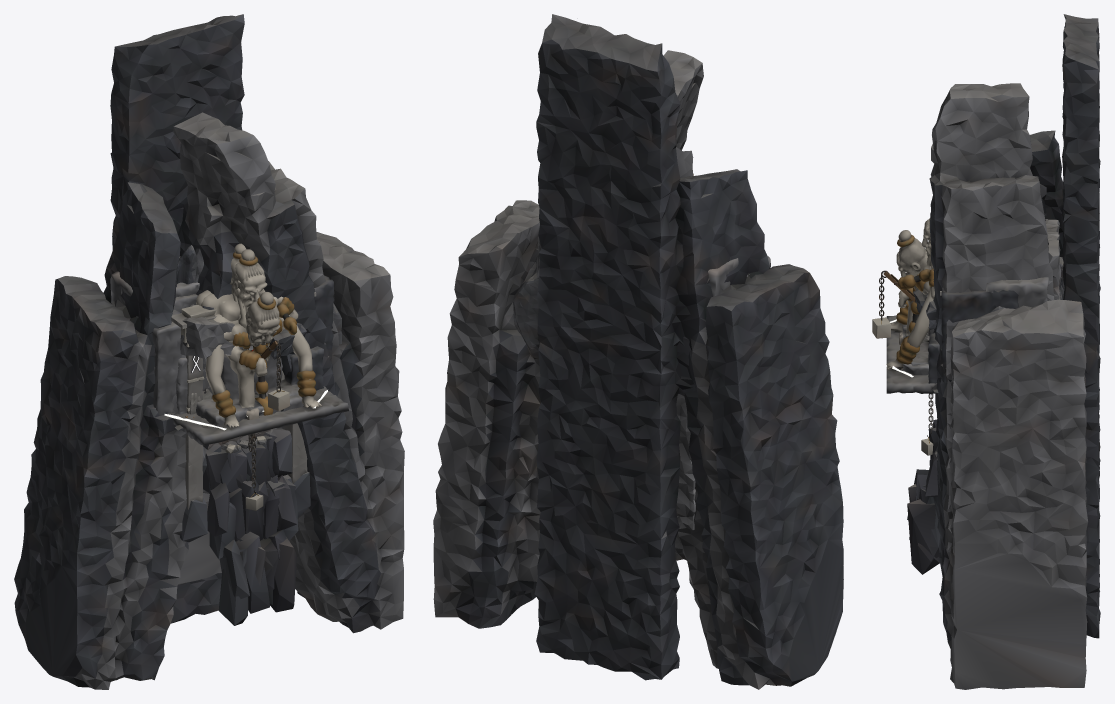
The model's file is smith_heart_hammer_kit.glb.
3 views of the same model, side by side, from view 1: azimuth 30°, elevation 25°; view 2: azimuth 150°, elevation 25°; view 3: azimuth 270°, elevation 25° (orthographic). The views are drawn at different scales.
Parts seen in each view (by area): view 1: Kit_CleftGate, Kit_ColossusWaking, Kit_QuarryLipA, Kit_QuarryLipB, Kit_ColossusVigil, Kit_SlabFrame, Kit_CollapseOverhang, Kit_ColossusBearer, Kit_Derrick, Kit_GreatCliffC, Kit_GreatCliffA; view 2: Kit_CleftGate, Kit_GreatCliffC, Kit_CollapseOverhang, Kit_ColossusWaking; view 3: Kit_CleftGate, Kit_ColossusWaking, Kit_QuarryLipB, Kit_ColossusVigil, Kit_QuarryLipA, Kit_CollapseOverhang, Kit_ColossusBearer, Kit_Derrick.
Part boxes in pixels (x1,y1,x2,y2): Kit_CleftGate: [14, 14, 404, 689]; Kit_ColossusWaking: [110, 271, 348, 445]; Kit_QuarryLipA: [205, 428, 297, 613]; Kit_QuarryLipB: [203, 428, 298, 625]; Kit_ColossusVigil: [173, 249, 324, 415]; Kit_SlabFrame: [171, 292, 316, 542]; Kit_CollapseOverhang: [178, 256, 306, 584]; Kit_ColossusBearer: [196, 243, 303, 426]; Kit_Derrick: [261, 340, 290, 411]; Kit_GreatCliffC: [174, 248, 341, 430]; Kit_GreatCliffA: [176, 245, 284, 380]; Kit_CleftGate: [433, 14, 843, 689]; Kit_GreatCliffC: [513, 258, 696, 396]; Kit_CollapseOverhang: [675, 394, 695, 560]; Kit_ColossusWaking: [536, 229, 770, 296]; Kit_CleftGate: [929, 14, 1100, 689]; Kit_ColossusWaking: [886, 219, 1048, 393]; Kit_QuarryLipB: [907, 442, 939, 574]; Kit_ColossusVigil: [900, 218, 939, 383]; Kit_QuarryLipA: [907, 419, 940, 561]; Kit_CollapseOverhang: [913, 219, 1060, 329]; Kit_ColossusBearer: [897, 265, 934, 375]; Kit_Derrick: [872, 270, 915, 338].
Bounding box in the file's own units: 60.21 × 105 × 37.25.
